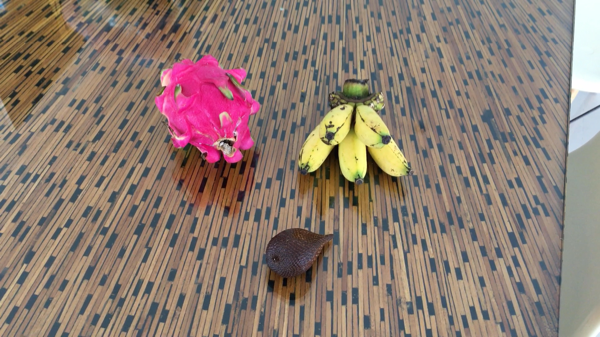banana: (297, 79, 413, 186)
dragon fruit: (152, 54, 264, 166)
snake fruit: (262, 228, 338, 278)
